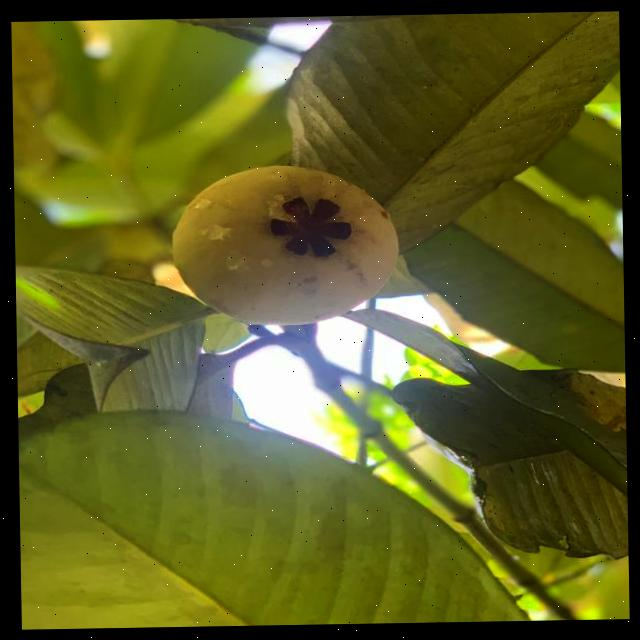mangosteen: (149, 127, 416, 356)
